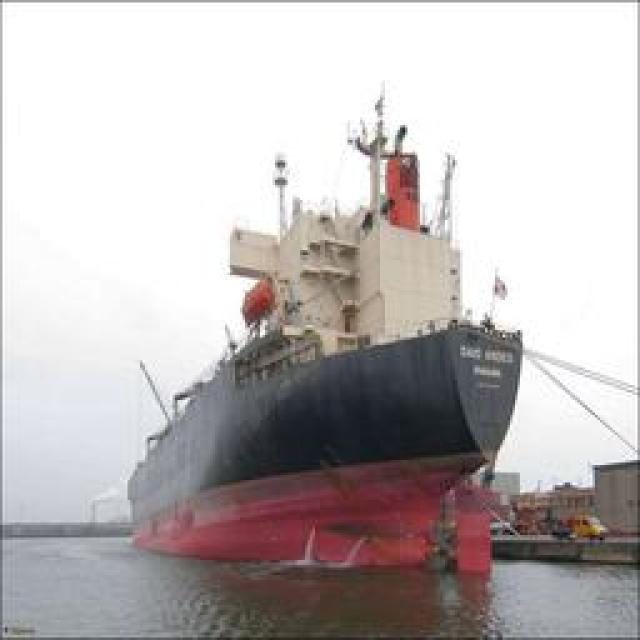ship2: (127, 82, 524, 581)
